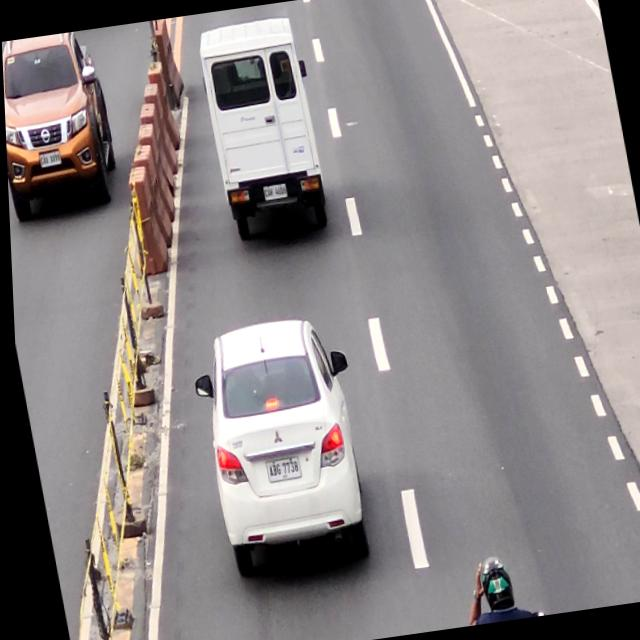Car: (180, 314, 378, 582), (193, 15, 335, 246)
License-Plate: (260, 458, 298, 483), (261, 183, 288, 203)
